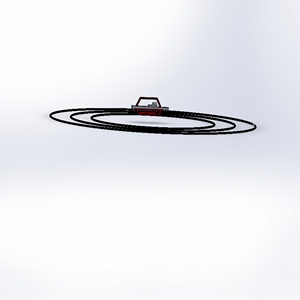circle: (41, 93, 265, 147)
submarine: (123, 91, 181, 118)
